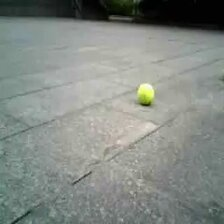tennis: (137, 85, 153, 101)
